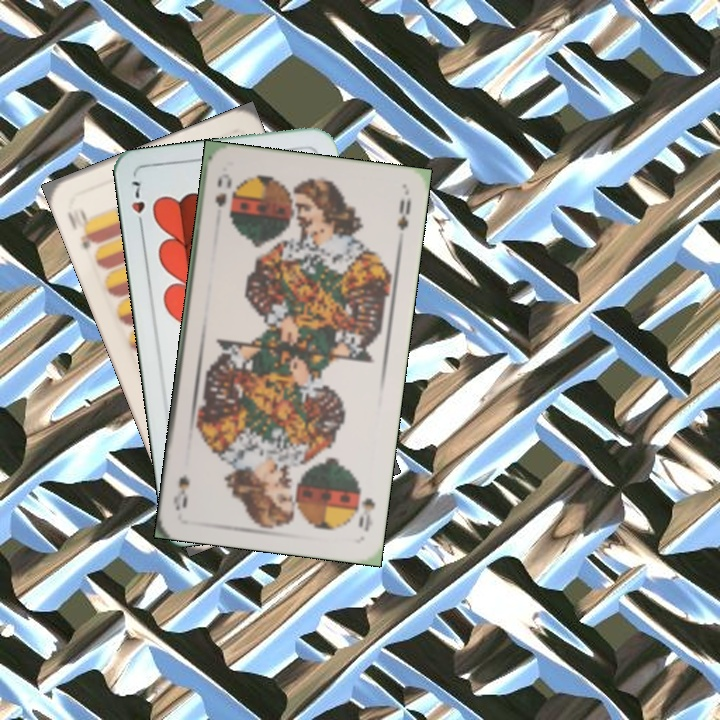E10: (63, 205, 100, 252)
H7: (127, 176, 148, 233)
SO: (352, 483, 378, 534), (211, 169, 235, 210)
